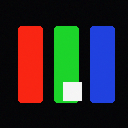1 square: (63, 82, 81, 100)
